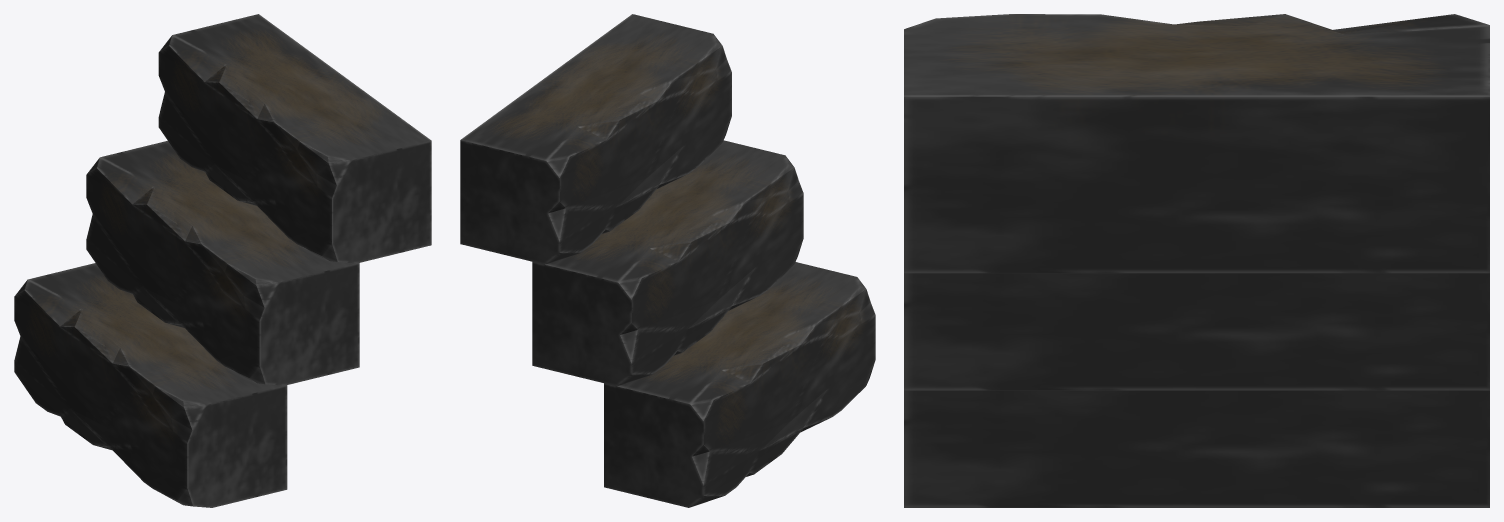
The model's file is steps.fbx.
The picture shows the model from 3 angles, left to right: view 1: azimuth 30°, elevation 25°; view 2: azimuth 150°, elevation 25°; view 3: azimuth 270°, elevation 25°; orthographic projection. The views are drawn at different scales.
Visible parts, largest first — view 1: steps; view 2: steps; view 3: steps.
Part boxes in pixels (x1,y1,x2,y2): steps: (14,14,431,507); steps: (460,14,875,507); steps: (904,14,1489,507).
Size of the model in its own units: 0.4905 by 0.5934 by 0.5934.
